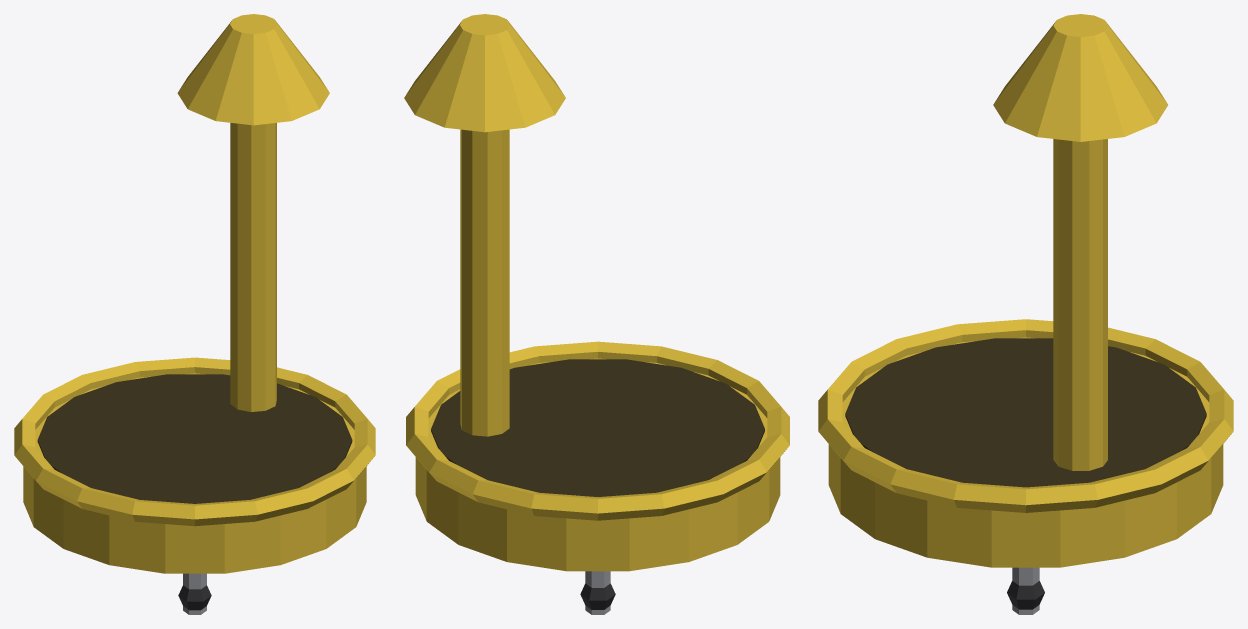
Rendered from oil_drain.glb.
3 views of the same model, side by side, from view 1: azimuth 30°, elevation 25°; view 2: azimuth 150°, elevation 25°; view 3: azimuth 270°, elevation 25° (orthographic). The views are drawn at different scales.
Parts seen in each view (by area): view 1: oil_drain; view 2: oil_drain; view 3: oil_drain.
Boxes of the visible parts, x1,y1,x2,y2 form: oil_drain: (14, 14, 375, 614); oil_drain: (404, 14, 789, 614); oil_drain: (818, 14, 1233, 614).
Bounding box in the file's own units: 0.77 × 1.14 × 0.7583.
